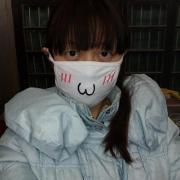OK: (57, 36, 126, 105)
